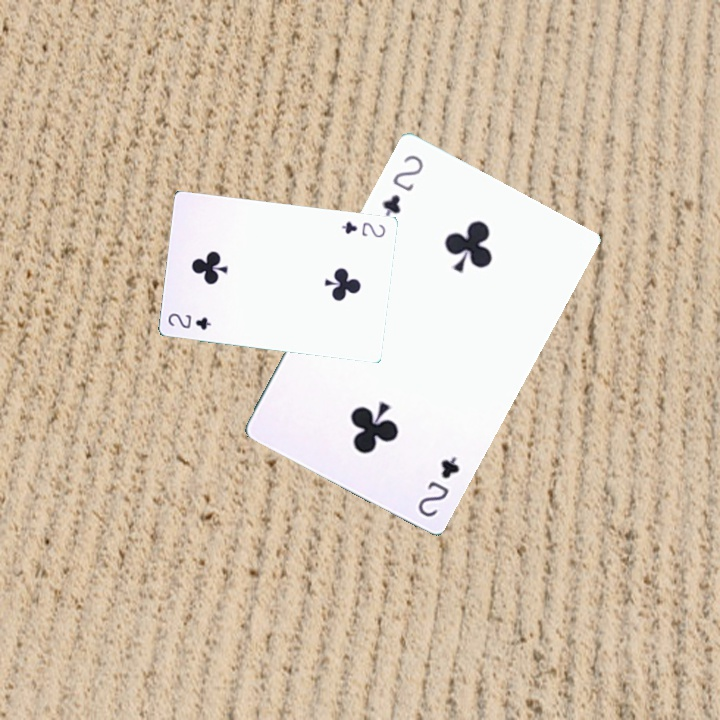2c: (377, 150, 426, 219), (413, 451, 462, 520), (164, 309, 214, 333), (337, 217, 388, 240)
